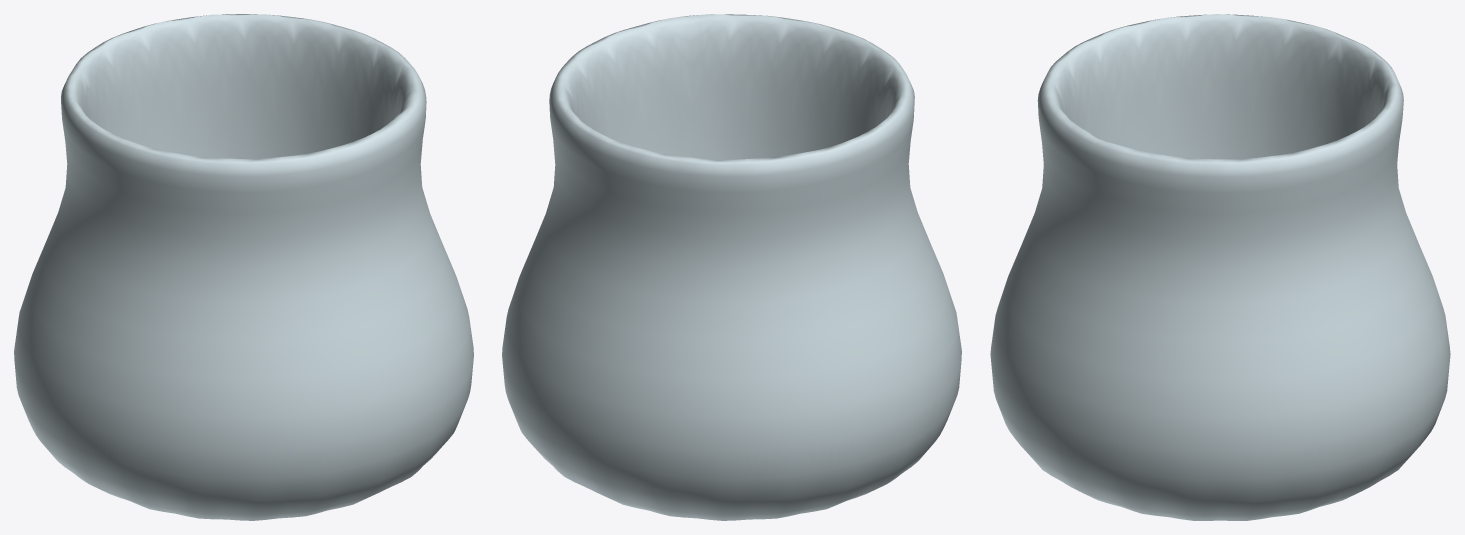
File: bottle.fbx
3 views of the same model, side by side, from view 1: azimuth 30°, elevation 25°; view 2: azimuth 150°, elevation 25°; view 3: azimuth 270°, elevation 25° (orthographic).
Parts seen in each view (by area): view 1: pCylinder4; view 2: pCylinder4; view 3: pCylinder4.
Part boxes in pixels (x1=…): pCylinder4: x1=14, y1=14, x2=473, y2=520; pCylinder4: x1=502, y1=14, x2=961, y2=520; pCylinder4: x1=990, y1=14, x2=1450, y2=520.
Bounding box in the file's own units: 1.21 × 1.16 × 1.21.
